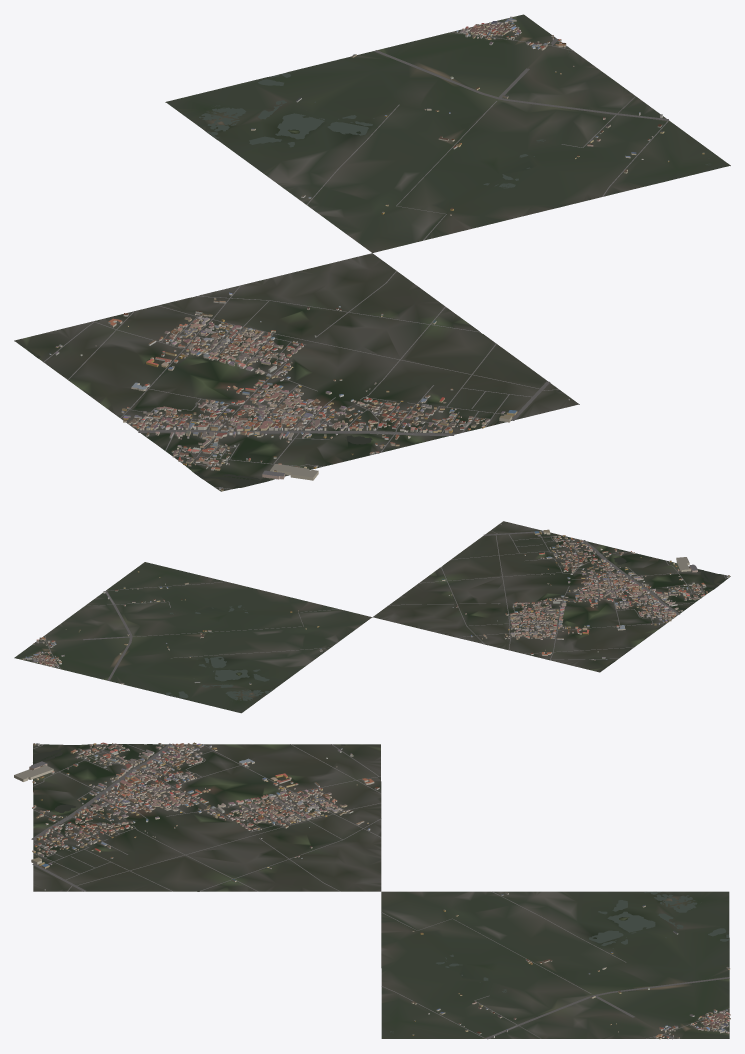
3 views of the same model, one above another, from view 1: azimuth 30°, elevation 25°; view 2: azimuth 150°, elevation 25°; view 3: azimuth 270°, elevation 25° (orthographic). The views are drawn at different scales.
Visible parts, largest first — view 1: ground, buildings, roads, water; view 2: ground, buildings, roads, water; view 3: ground, buildings, roads, water.
Part boxes in pixels (x1,y1,x2,y2): ground: [14, 14, 730, 491]; buildings: [49, 16, 704, 491]; roads: [43, 22, 668, 489]; water: [36, 52, 710, 486]; ground: [14, 521, 730, 713]; buildings: [22, 524, 729, 684]; roads: [27, 530, 726, 680]; water: [48, 557, 717, 700]; ground: [33, 744, 729, 1038]; buildings: [14, 742, 730, 1039]; roads: [31, 743, 729, 1039]; water: [33, 744, 729, 1037].
Bounding box in the file's own units: 2819 × 23.09 × 2888.
